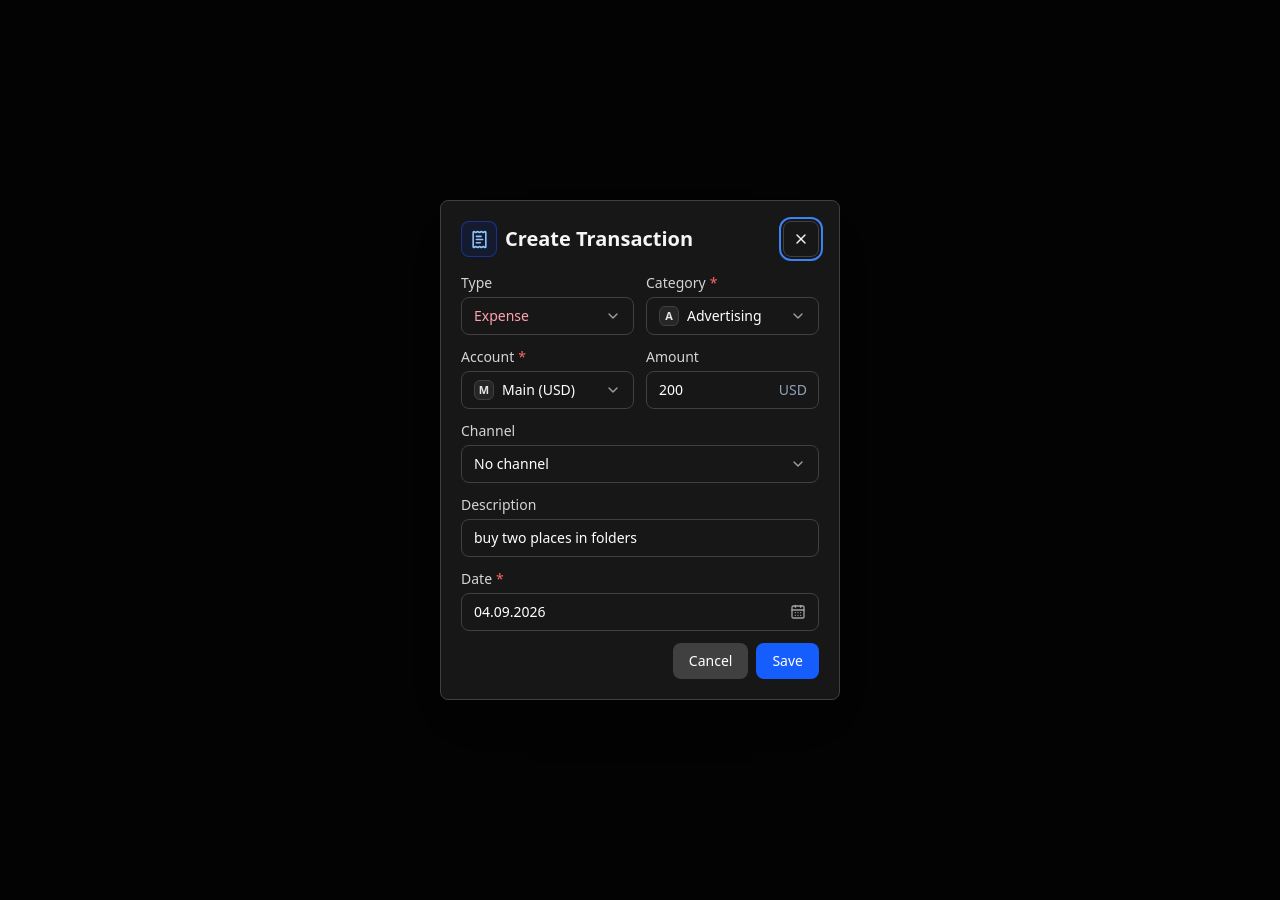
Test case: internal transaction modal category fields › keeps the loaded category selected while editing a transaction
The width and height of the screenshot is (1280, 900).
Click the button "A Advertising" at x=732, y=316, box left=646, top=297, right=819, bottom=335
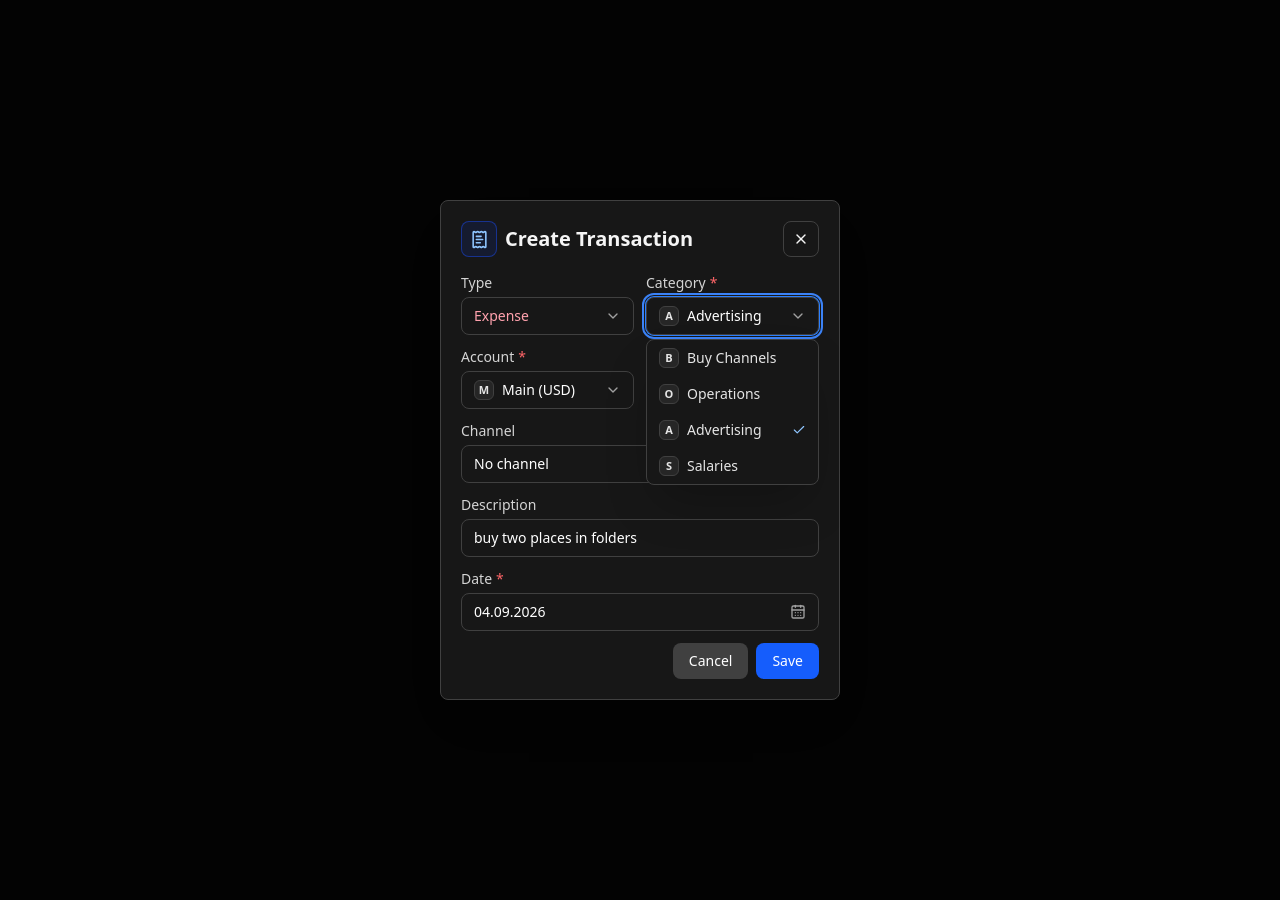
Expected: the button "O Operations" is shown, left=647, top=376, right=818, bottom=412
